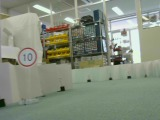speed_10: (17, 47, 38, 68)
